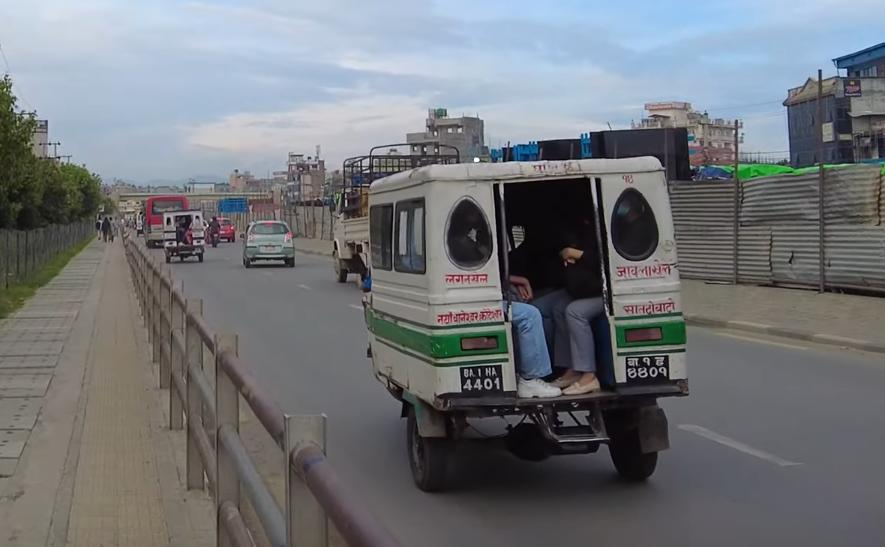car: (242, 220, 297, 268)
tempo: (363, 154, 701, 492), (162, 208, 208, 264)
